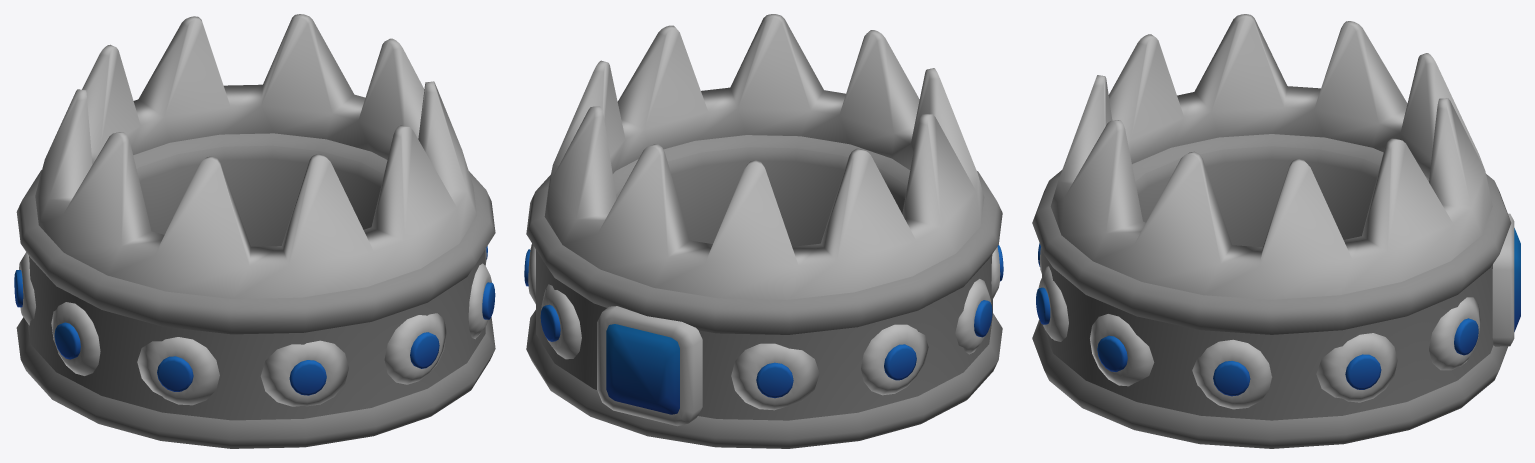
Rendered from Crown_V1_0.fbx.
3 views of the same model, side by side, from view 1: azimuth 30°, elevation 25°; view 2: azimuth 150°, elevation 25°; view 3: azimuth 270°, elevation 25° (orthographic).
Parts seen in each view (by area): view 1: Crown_V1_0; view 2: Crown_V1_0; view 3: Crown_V1_0.
Part boxes in pixels (x1,y1,x2,y2): Crown_V1_0: [14, 14, 495, 448]; Crown_V1_0: [524, 14, 1003, 448]; Crown_V1_0: [1032, 14, 1520, 448].
Bounding box in the file's own units: 0.4032 × 0.2473 × 0.4107.
